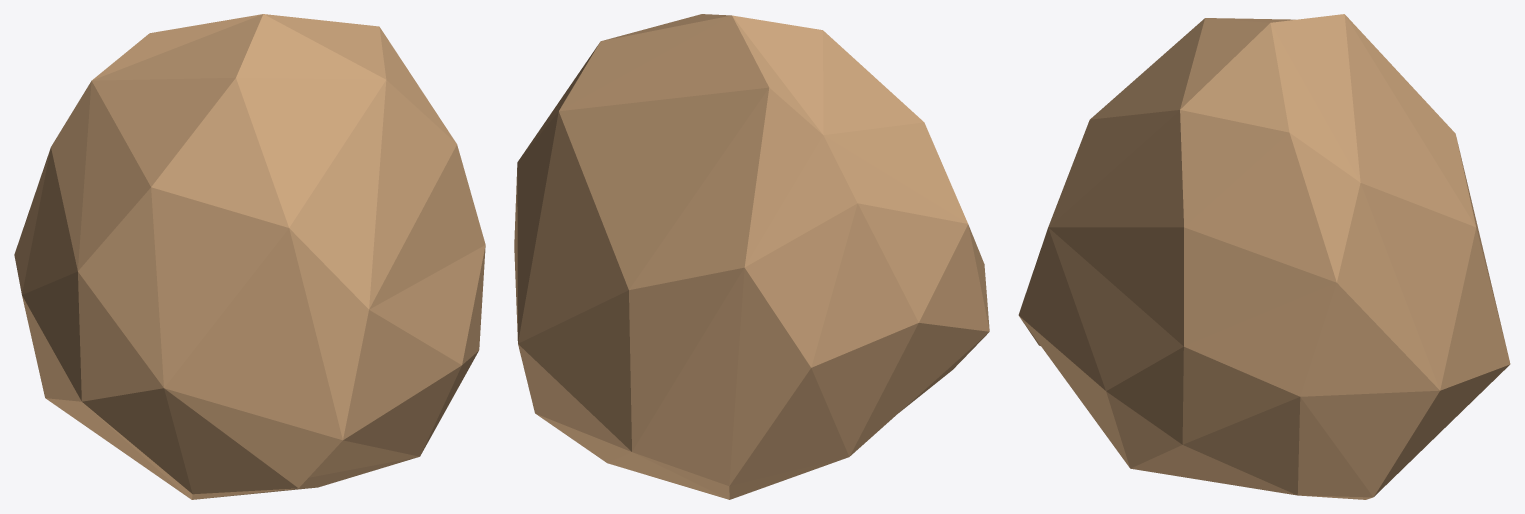
Rendered from cloud04.obj.
3 renders of one model, left to right at view 1: azimuth 30°, elevation 25°; view 2: azimuth 150°, elevation 25°; view 3: azimuth 270°, elevation 25°, orthographic. The views are drawn at different scales.
Visible parts, largest first — view 1: cloud04.obj; view 2: cloud04.obj; view 3: cloud04.obj.
Part boxes in pixels (left/top/right/bottom): cloud04.obj: left=14, top=14, right=485, bottom=499; cloud04.obj: left=514, top=14, right=989, bottom=499; cloud04.obj: left=1018, top=14, right=1510, bottom=499.
Size of the model in its own units: 2.5 by 2.5 by 2.5.
